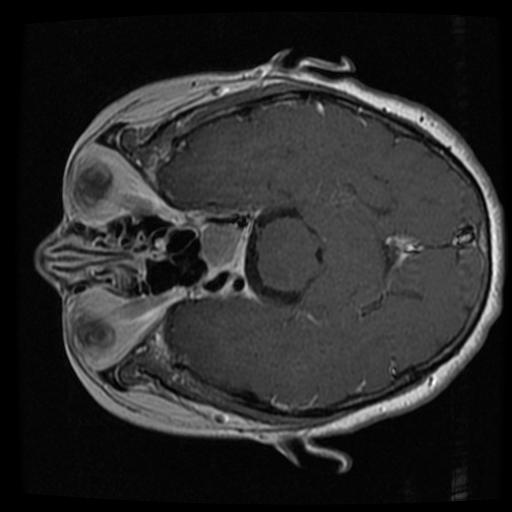pituitary tumour: (199, 221, 242, 267)
